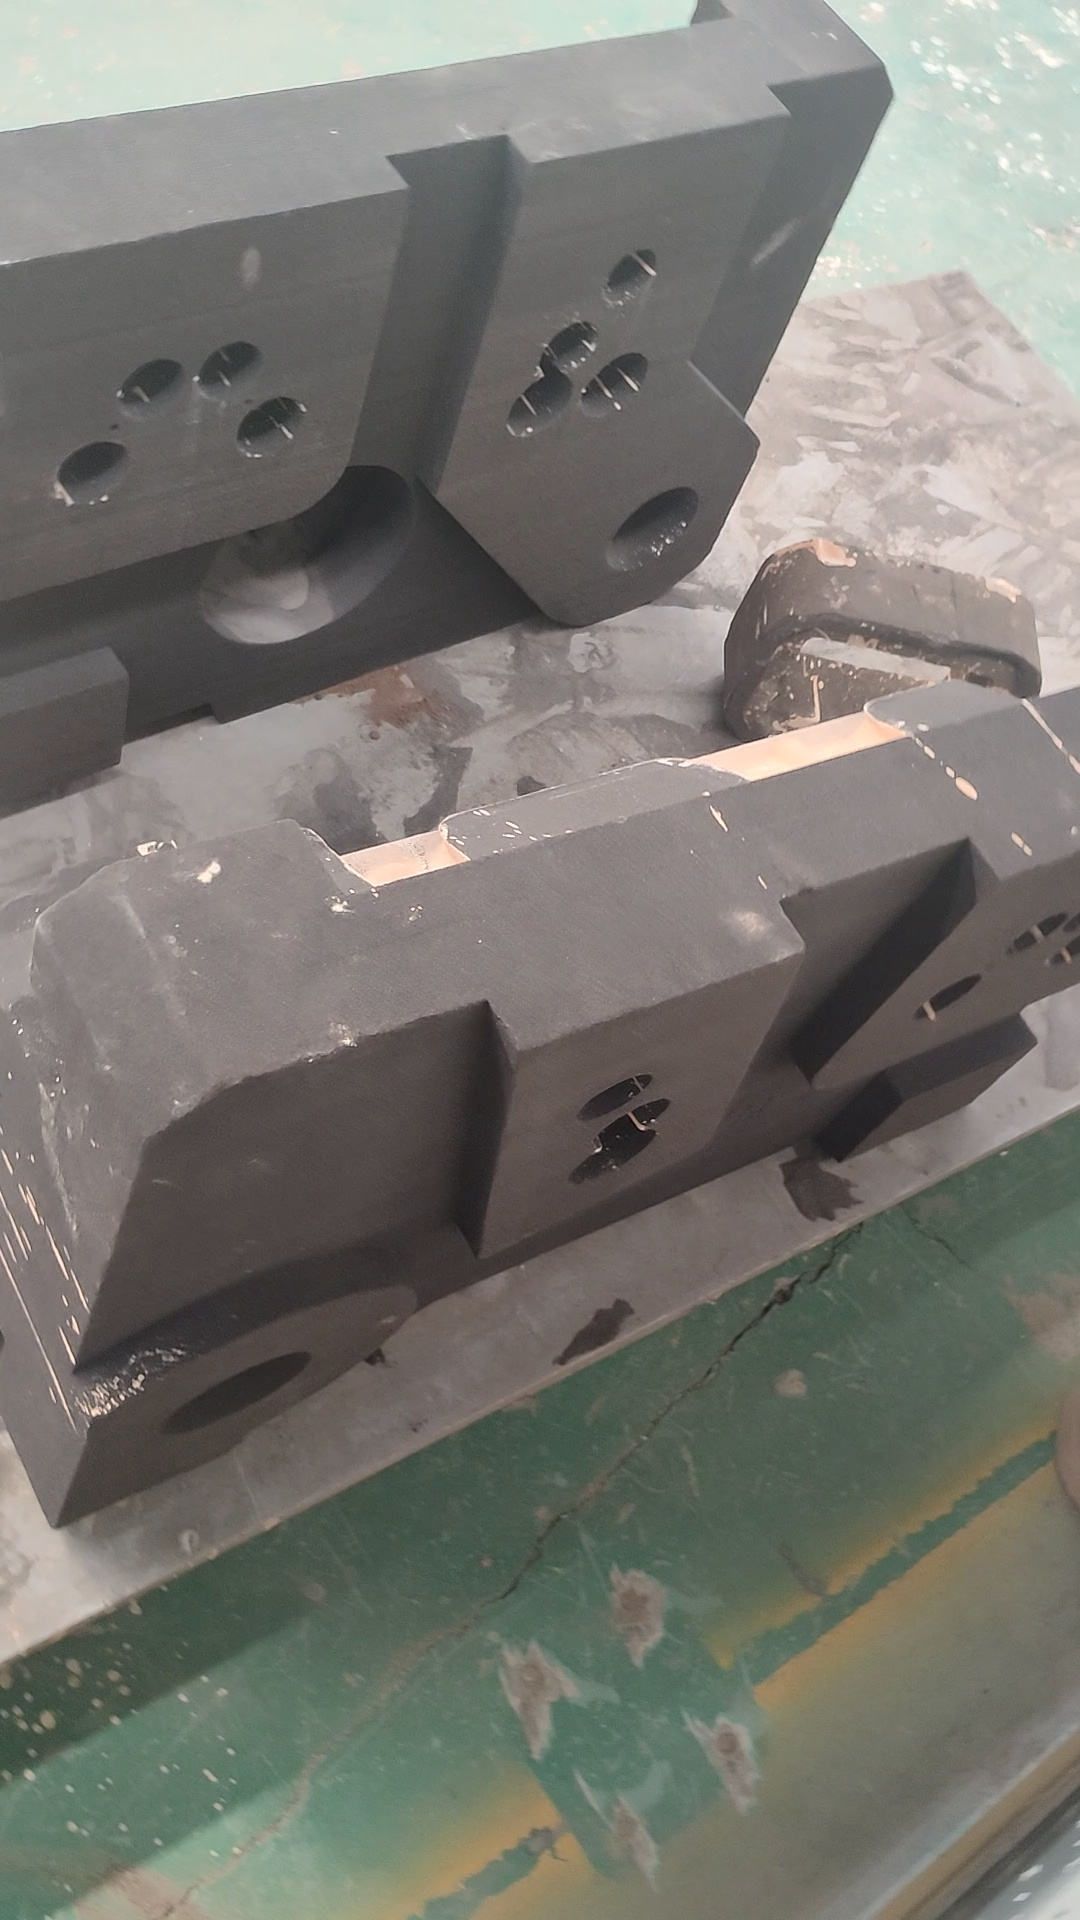pouring hole: (158, 1349, 314, 1437), (605, 485, 702, 572)
